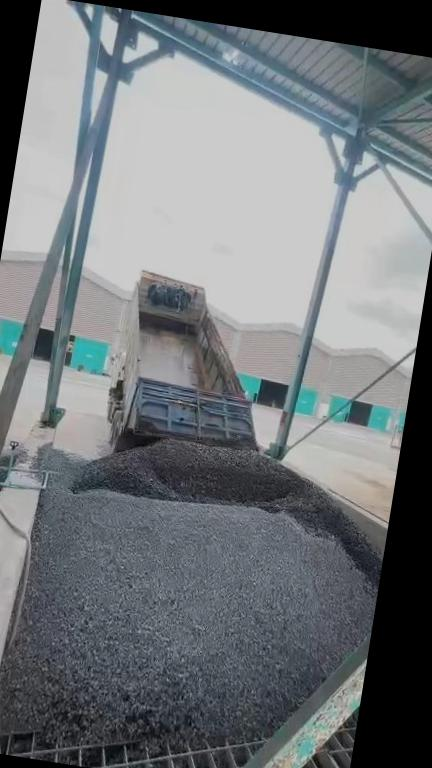gravel: (0, 440, 377, 747), (72, 440, 381, 582), (136, 421, 258, 449)
sand: (349, 472, 393, 522)
